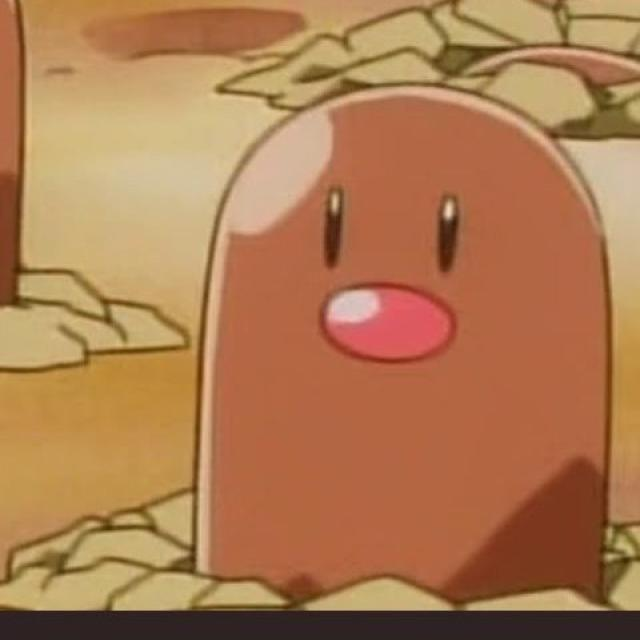Diglett: (204, 82, 608, 612)
